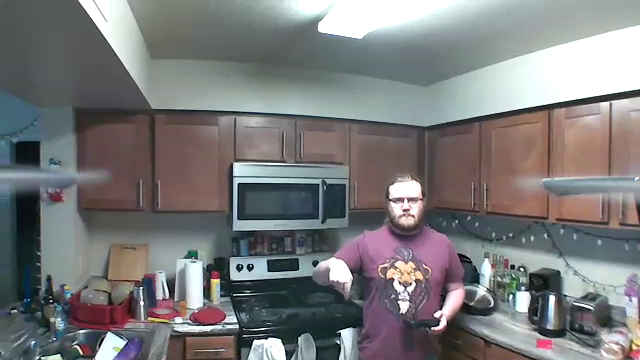down: (326, 255, 357, 303)
